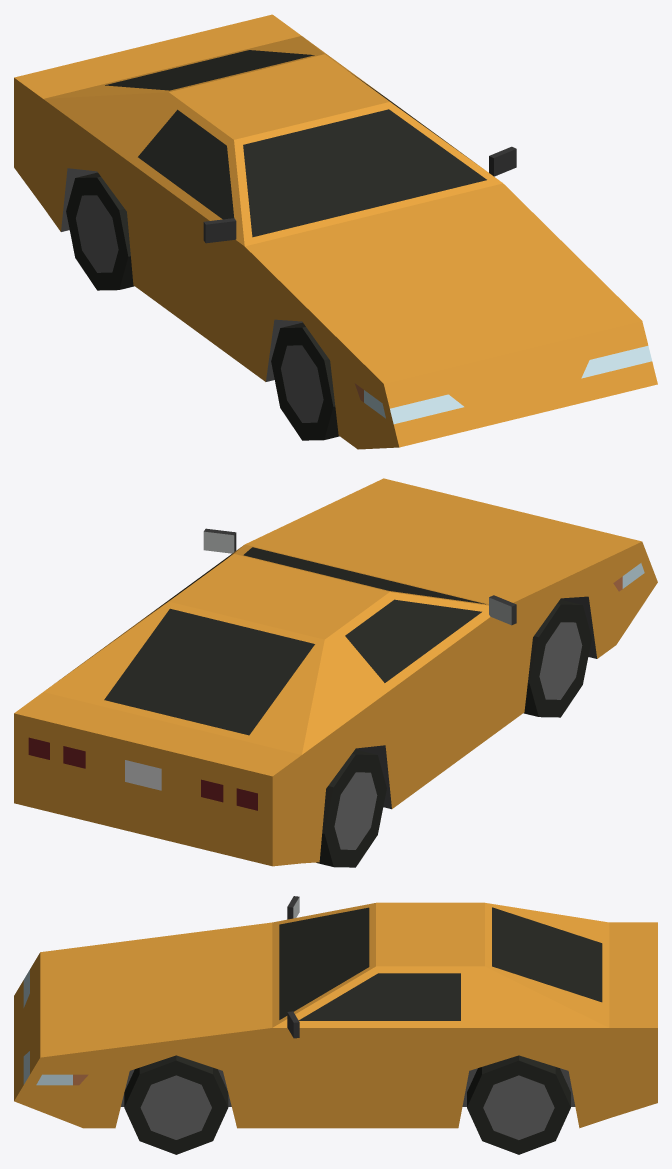
Rendered from Veh_Sports_Car_01_Yellow.obj.
3 views of the same model, one above another, from view 1: azimuth 30°, elevation 25°; view 2: azimuth 150°, elevation 25°; view 3: azimuth 270°, elevation 25° (orthographic). The views are drawn at different scales.
Size of the model in its own units: 1.13 by 0.6973 by 2.43.
